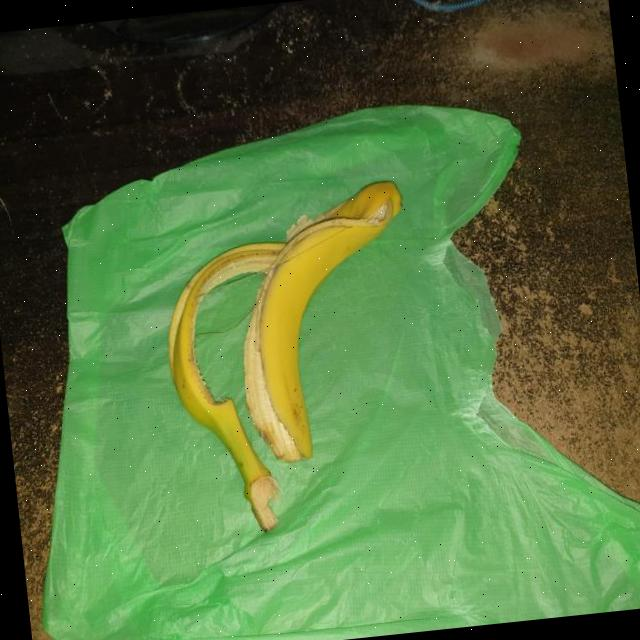banana-peel: (151, 176, 435, 539), (156, 237, 318, 539)
